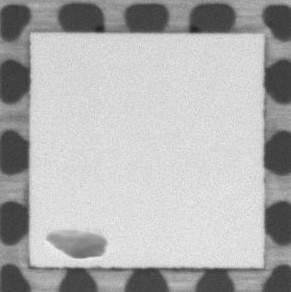DIE_INK: (43, 227, 108, 257)
